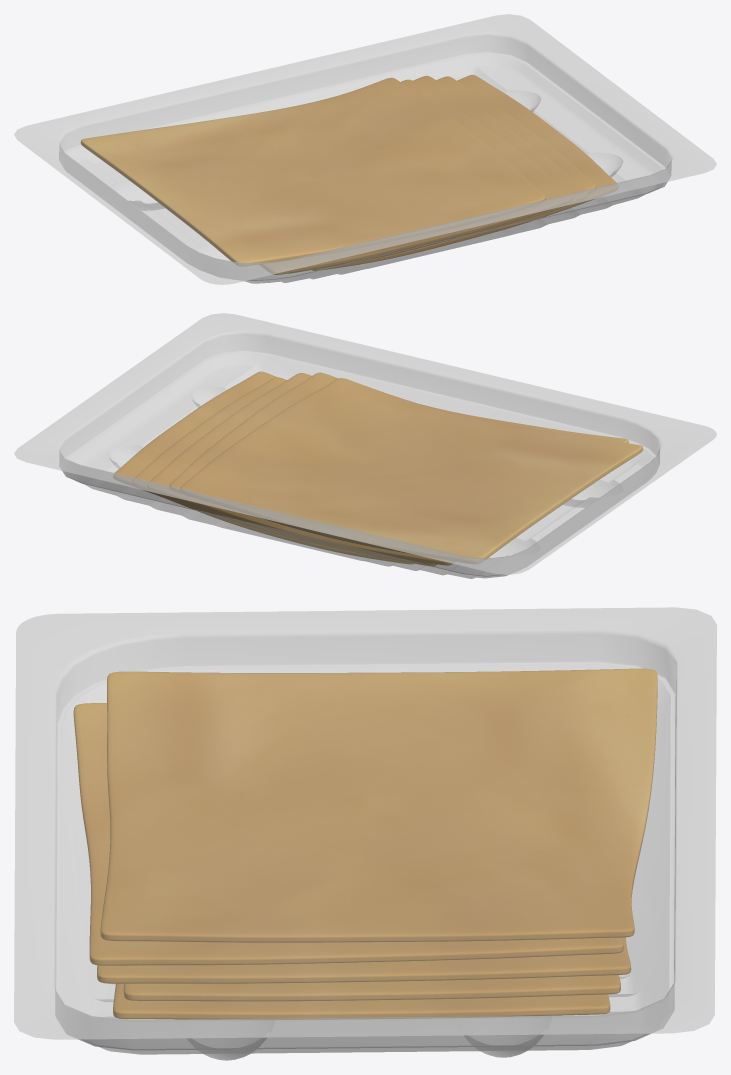
The model's file is Cheese.fbx.
The picture shows the model from 3 angles, top to bottom: view 1: azimuth 30°, elevation 25°; view 2: azimuth 150°, elevation 25°; view 3: azimuth 270°, elevation 25°; orthographic projection. The views are drawn at different scales.
Visible parts, largest first — view 1: Label3, Cheese1, Box1; view 2: Label3, Cheese1, Box1; view 3: Label3, Cheese1, Box1.
Part boxes in pixels (x1,y1,x2,y2): Label3: (14, 14, 716, 284); Cheese1: (80, 75, 617, 274); Box1: (14, 14, 716, 284); Label3: (14, 313, 716, 574); Cheese1: (114, 371, 643, 565); Box1: (14, 313, 716, 578); Label3: (14, 607, 716, 1039); Cheese1: (73, 668, 657, 1019); Box1: (14, 607, 716, 1060).
Size of the model in its own units: 42.83 by 4.46 by 30.3.
